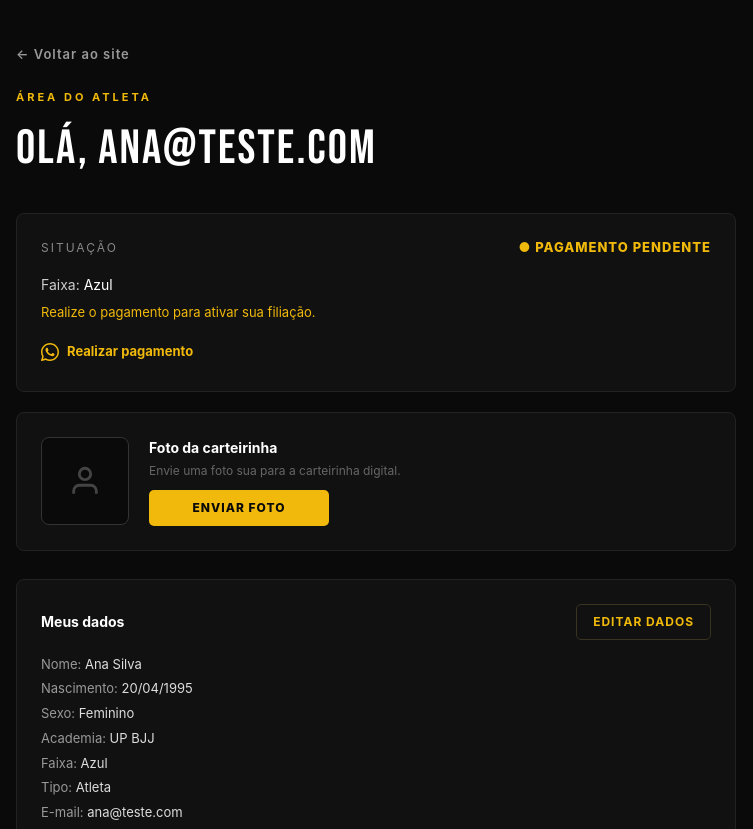
Painel — edição de dados › abre o formulário com todos os campos preenchidos
The width and height of the screenshot is (753, 829).
Step 1. Click the button "Editar dados" → (644, 622), box top-left (576, 604), bottom-right (711, 640)
(page scrolled)
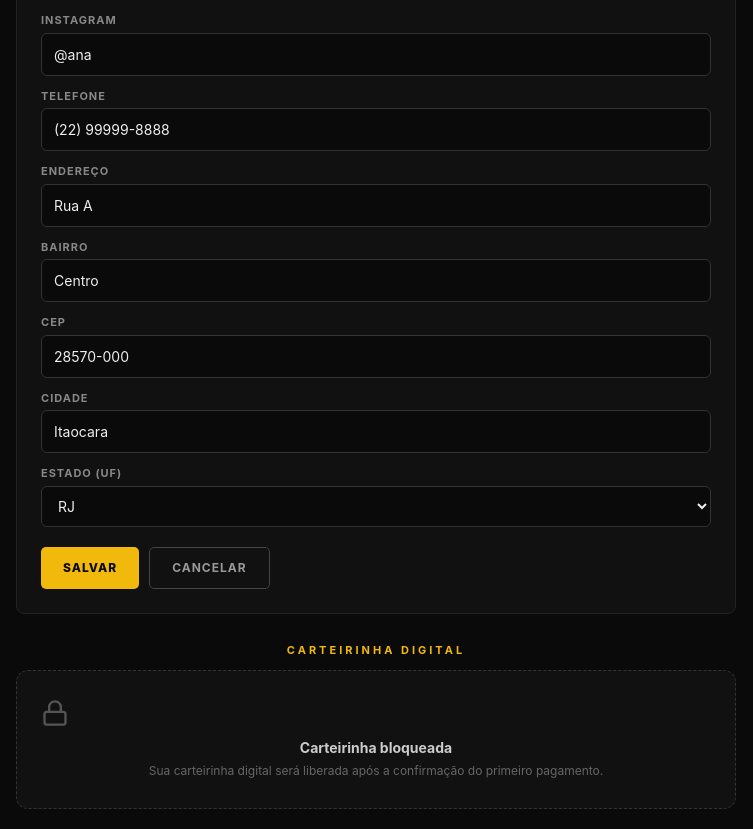
Expected: the field named "Cidade" holds "Itaocara", top-left (41, 410), bottom-right (711, 453)
